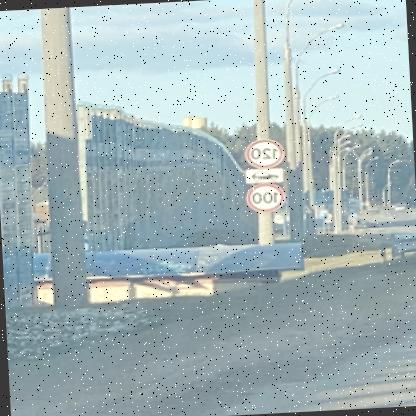speedlimit: (244, 136, 286, 166), (249, 182, 289, 212)
